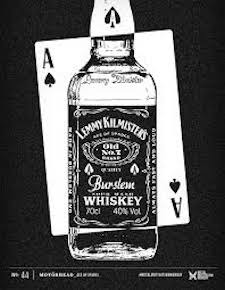AceOfSpades: (30, 25, 192, 236)
